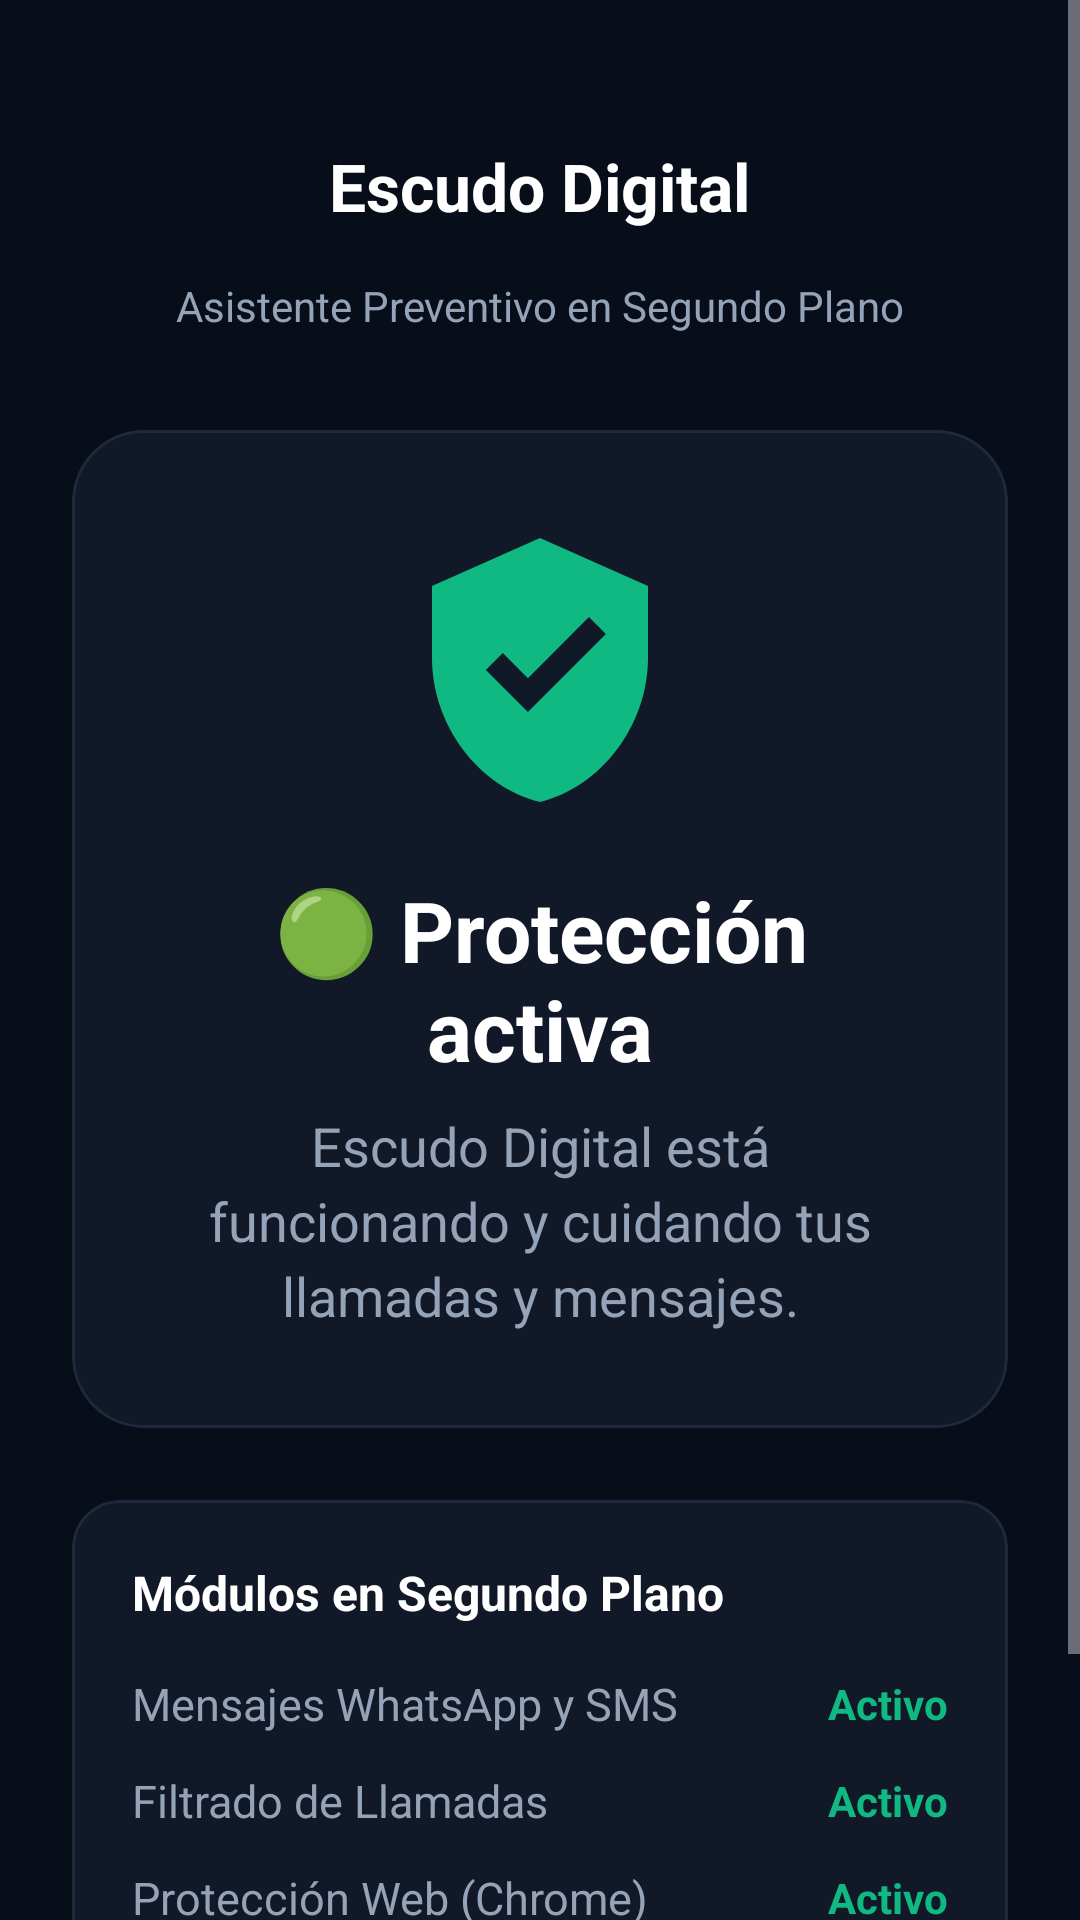

Icons on this 1080px×1920px Android screen, each with the point to tap as (x=x, y=y):
Escudo de Protección: (x=540, y=670)
